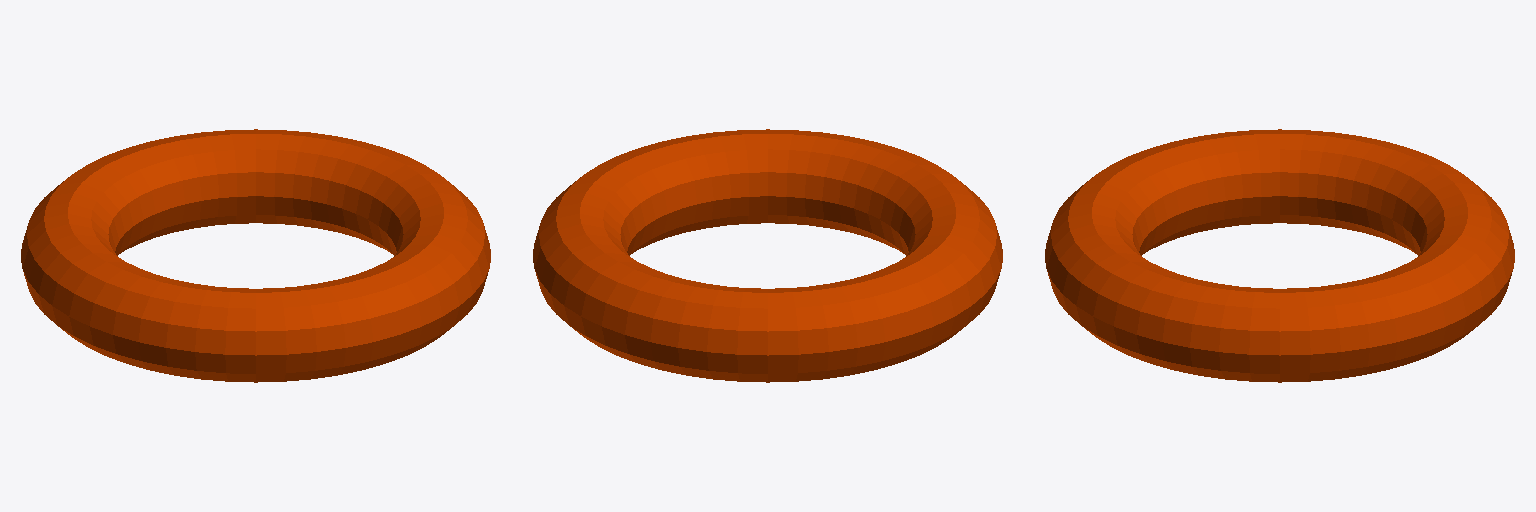
File: lifering.obj
3 views of the same model, side by side, from view 1: azimuth 30°, elevation 25°; view 2: azimuth 150°, elevation 25°; view 3: azimuth 270°, elevation 25° (orthographic).
Visible parts, largest first — view 1: Torus; view 2: Torus; view 3: Torus.
Part boxes in pixels (x1,y1,x2,y2): Torus: (21, 129, 490, 382); Torus: (533, 129, 1002, 382); Torus: (1045, 129, 1514, 382).
Size of the model in its own units: 7.12 by 1.42 by 7.12.